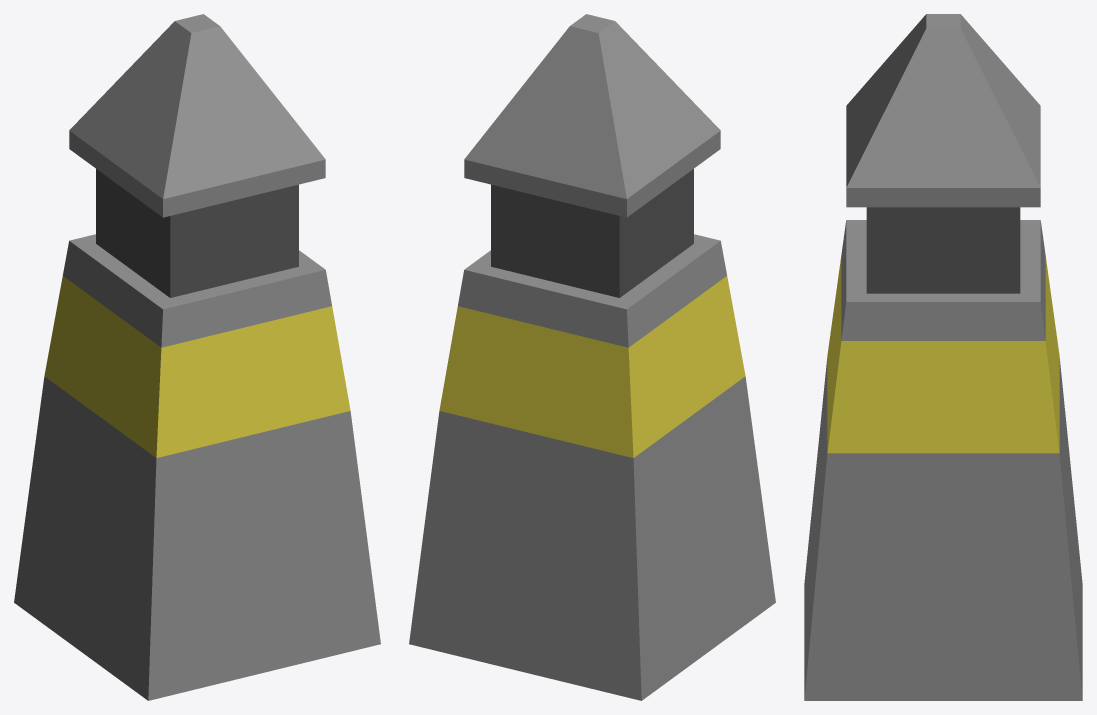
Rendered from SM_TileP2Tower.fbx.
3 views of the same model, side by side, from view 1: azimuth 30°, elevation 25°; view 2: azimuth 150°, elevation 25°; view 3: azimuth 270°, elevation 25° (orthographic). The views are drawn at different scales.
Parts seen in each view (by area): view 1: TileP2Tower; view 2: TileP2Tower; view 3: TileP2Tower.
Boxes of the visible parts, box(x1,y1,x2,y2) form: TileP2Tower: box(14, 14, 380, 700); TileP2Tower: box(409, 14, 775, 700); TileP2Tower: box(804, 14, 1082, 700).
Size of the model in its own units: 96.95 by 239 by 96.95.
